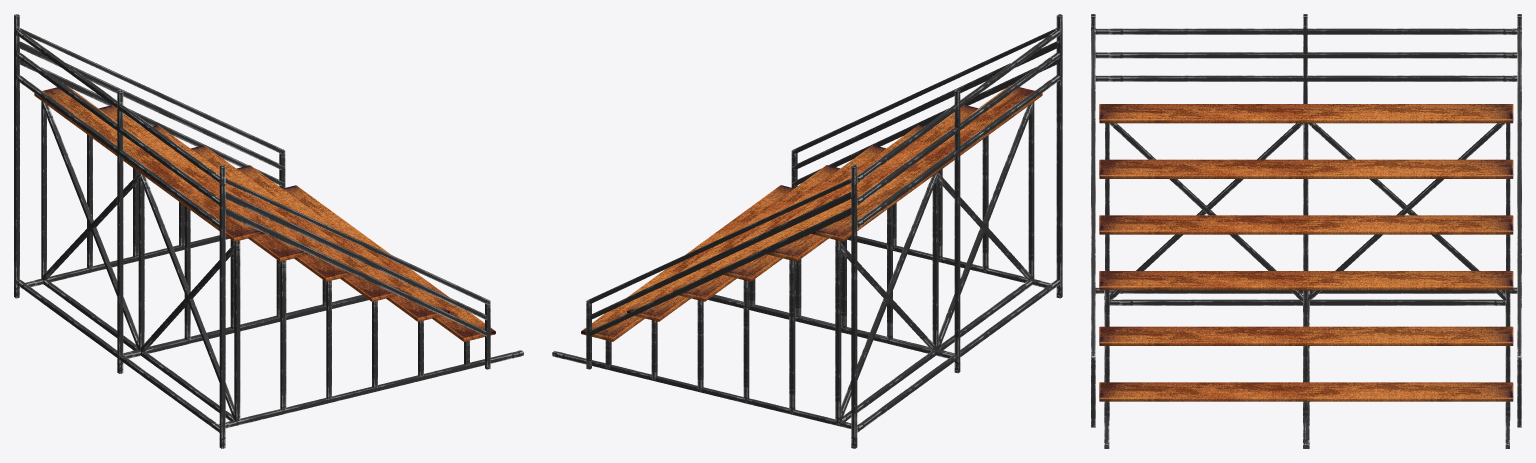
Rendered from seating__bleacher.glb.
3 renders of one model, left to right at view 1: azimuth 30°, elevation 25°; view 2: azimuth 150°, elevation 25°; view 3: azimuth 270°, elevation 25°, orthographic. The views are drawn at different scales.
Visible parts, largest first — view 1: bleacher; view 2: bleacher; view 3: bleacher.
Boxes of the visible parts, <box> form: bleacher: <box>14,14,523,448</box>; bleacher: <box>552,14,1062,448</box>; bleacher: <box>1091,14,1521,448</box>.
Bounding box in the file's own units: 0.1732 × 0.1513 × 0.202.
1 material, 1 textured.
